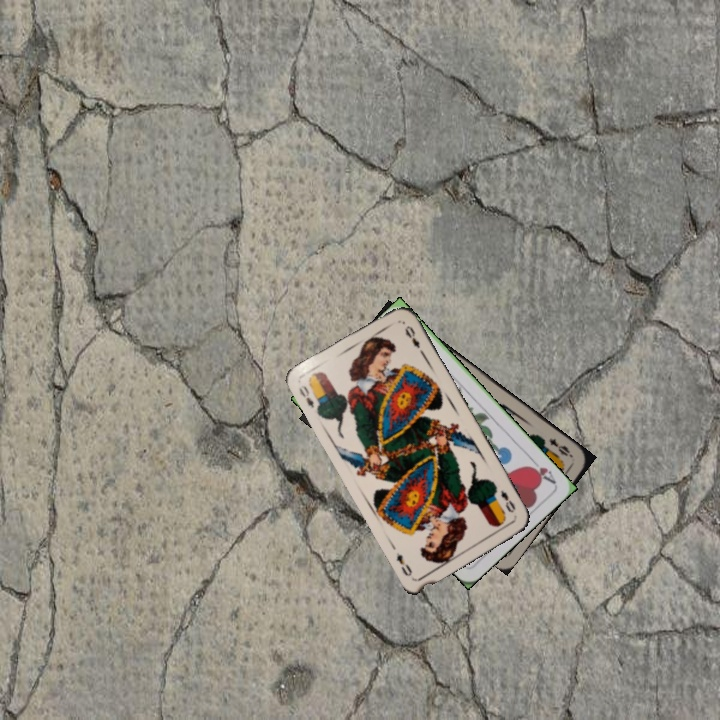EO: (545, 434, 576, 460), (496, 486, 518, 515), (295, 382, 317, 411)
HA: (524, 454, 558, 486)
